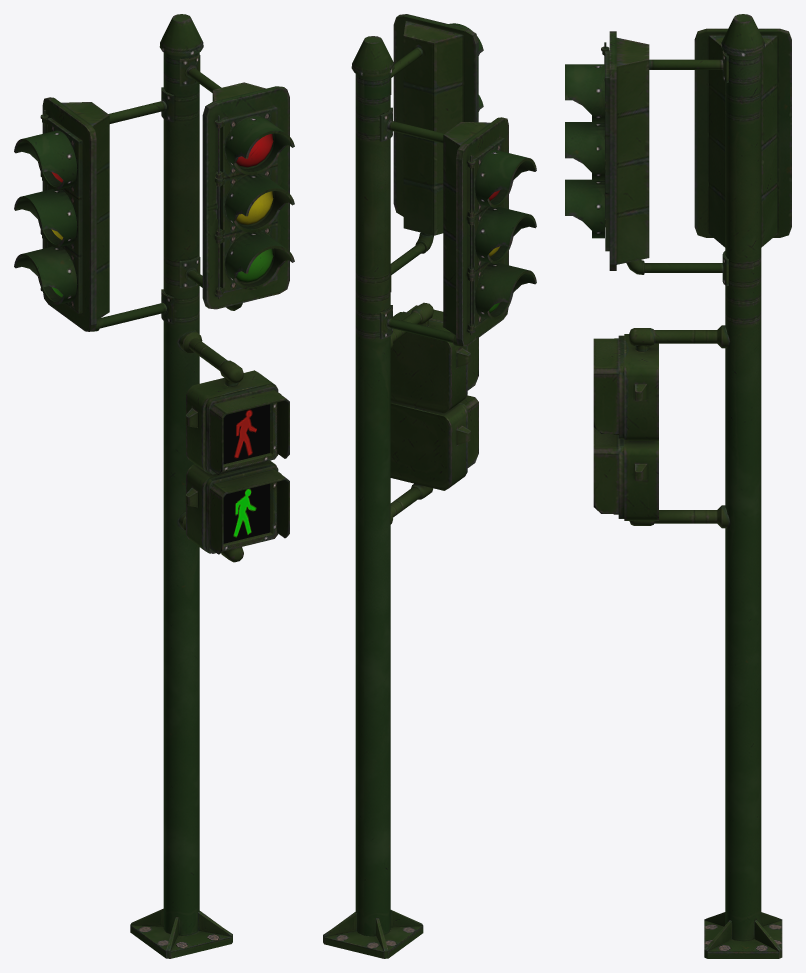
The model's file is TrafficLight.FBX.
3 views of the same model, side by side, from view 1: azimuth 30°, elevation 25°; view 2: azimuth 150°, elevation 25°; view 3: azimuth 270°, elevation 25° (orthographic). The views are drawn at different scales.
Visible parts, largest first — view 1: TrafficLight; view 2: TrafficLight; view 3: TrafficLight.
Part boxes in pixels (x1=…): TrafficLight: x1=14, y1=14, x2=294, y2=958; TrafficLight: x1=323, y1=14, x2=536, y2=958; TrafficLight: x1=565, y1=14, x2=791, y2=958.
Size of the model in its own units: 289 by 1268 by 282.
